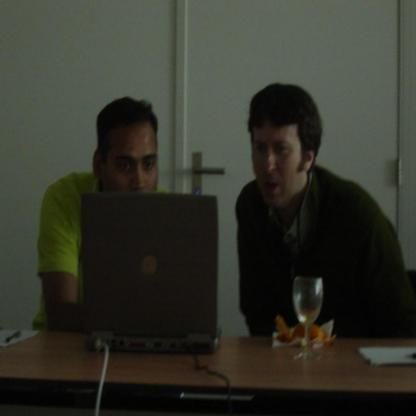board: (65, 186, 220, 334)
